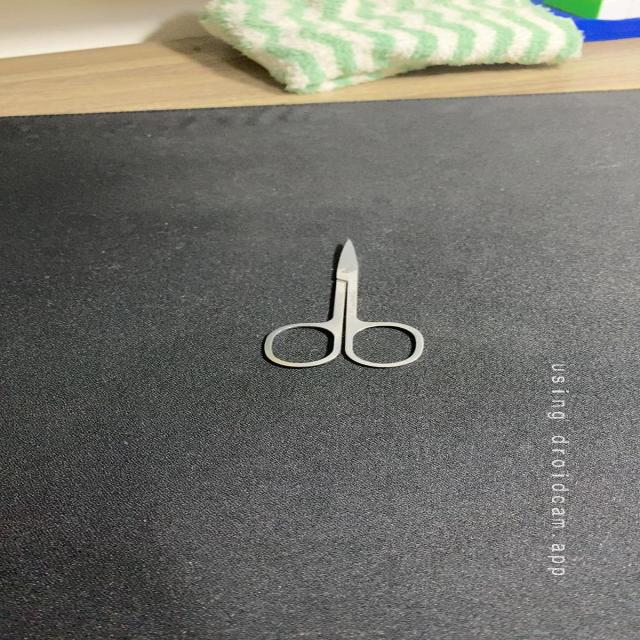scissor: (253, 231, 428, 372)
